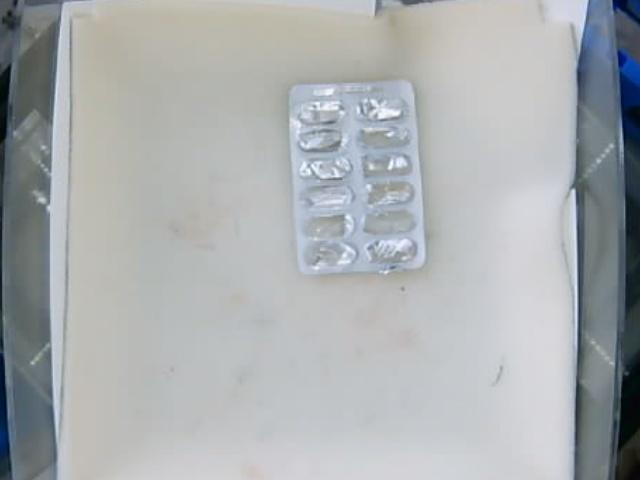Medicine: (290, 76, 422, 275)
